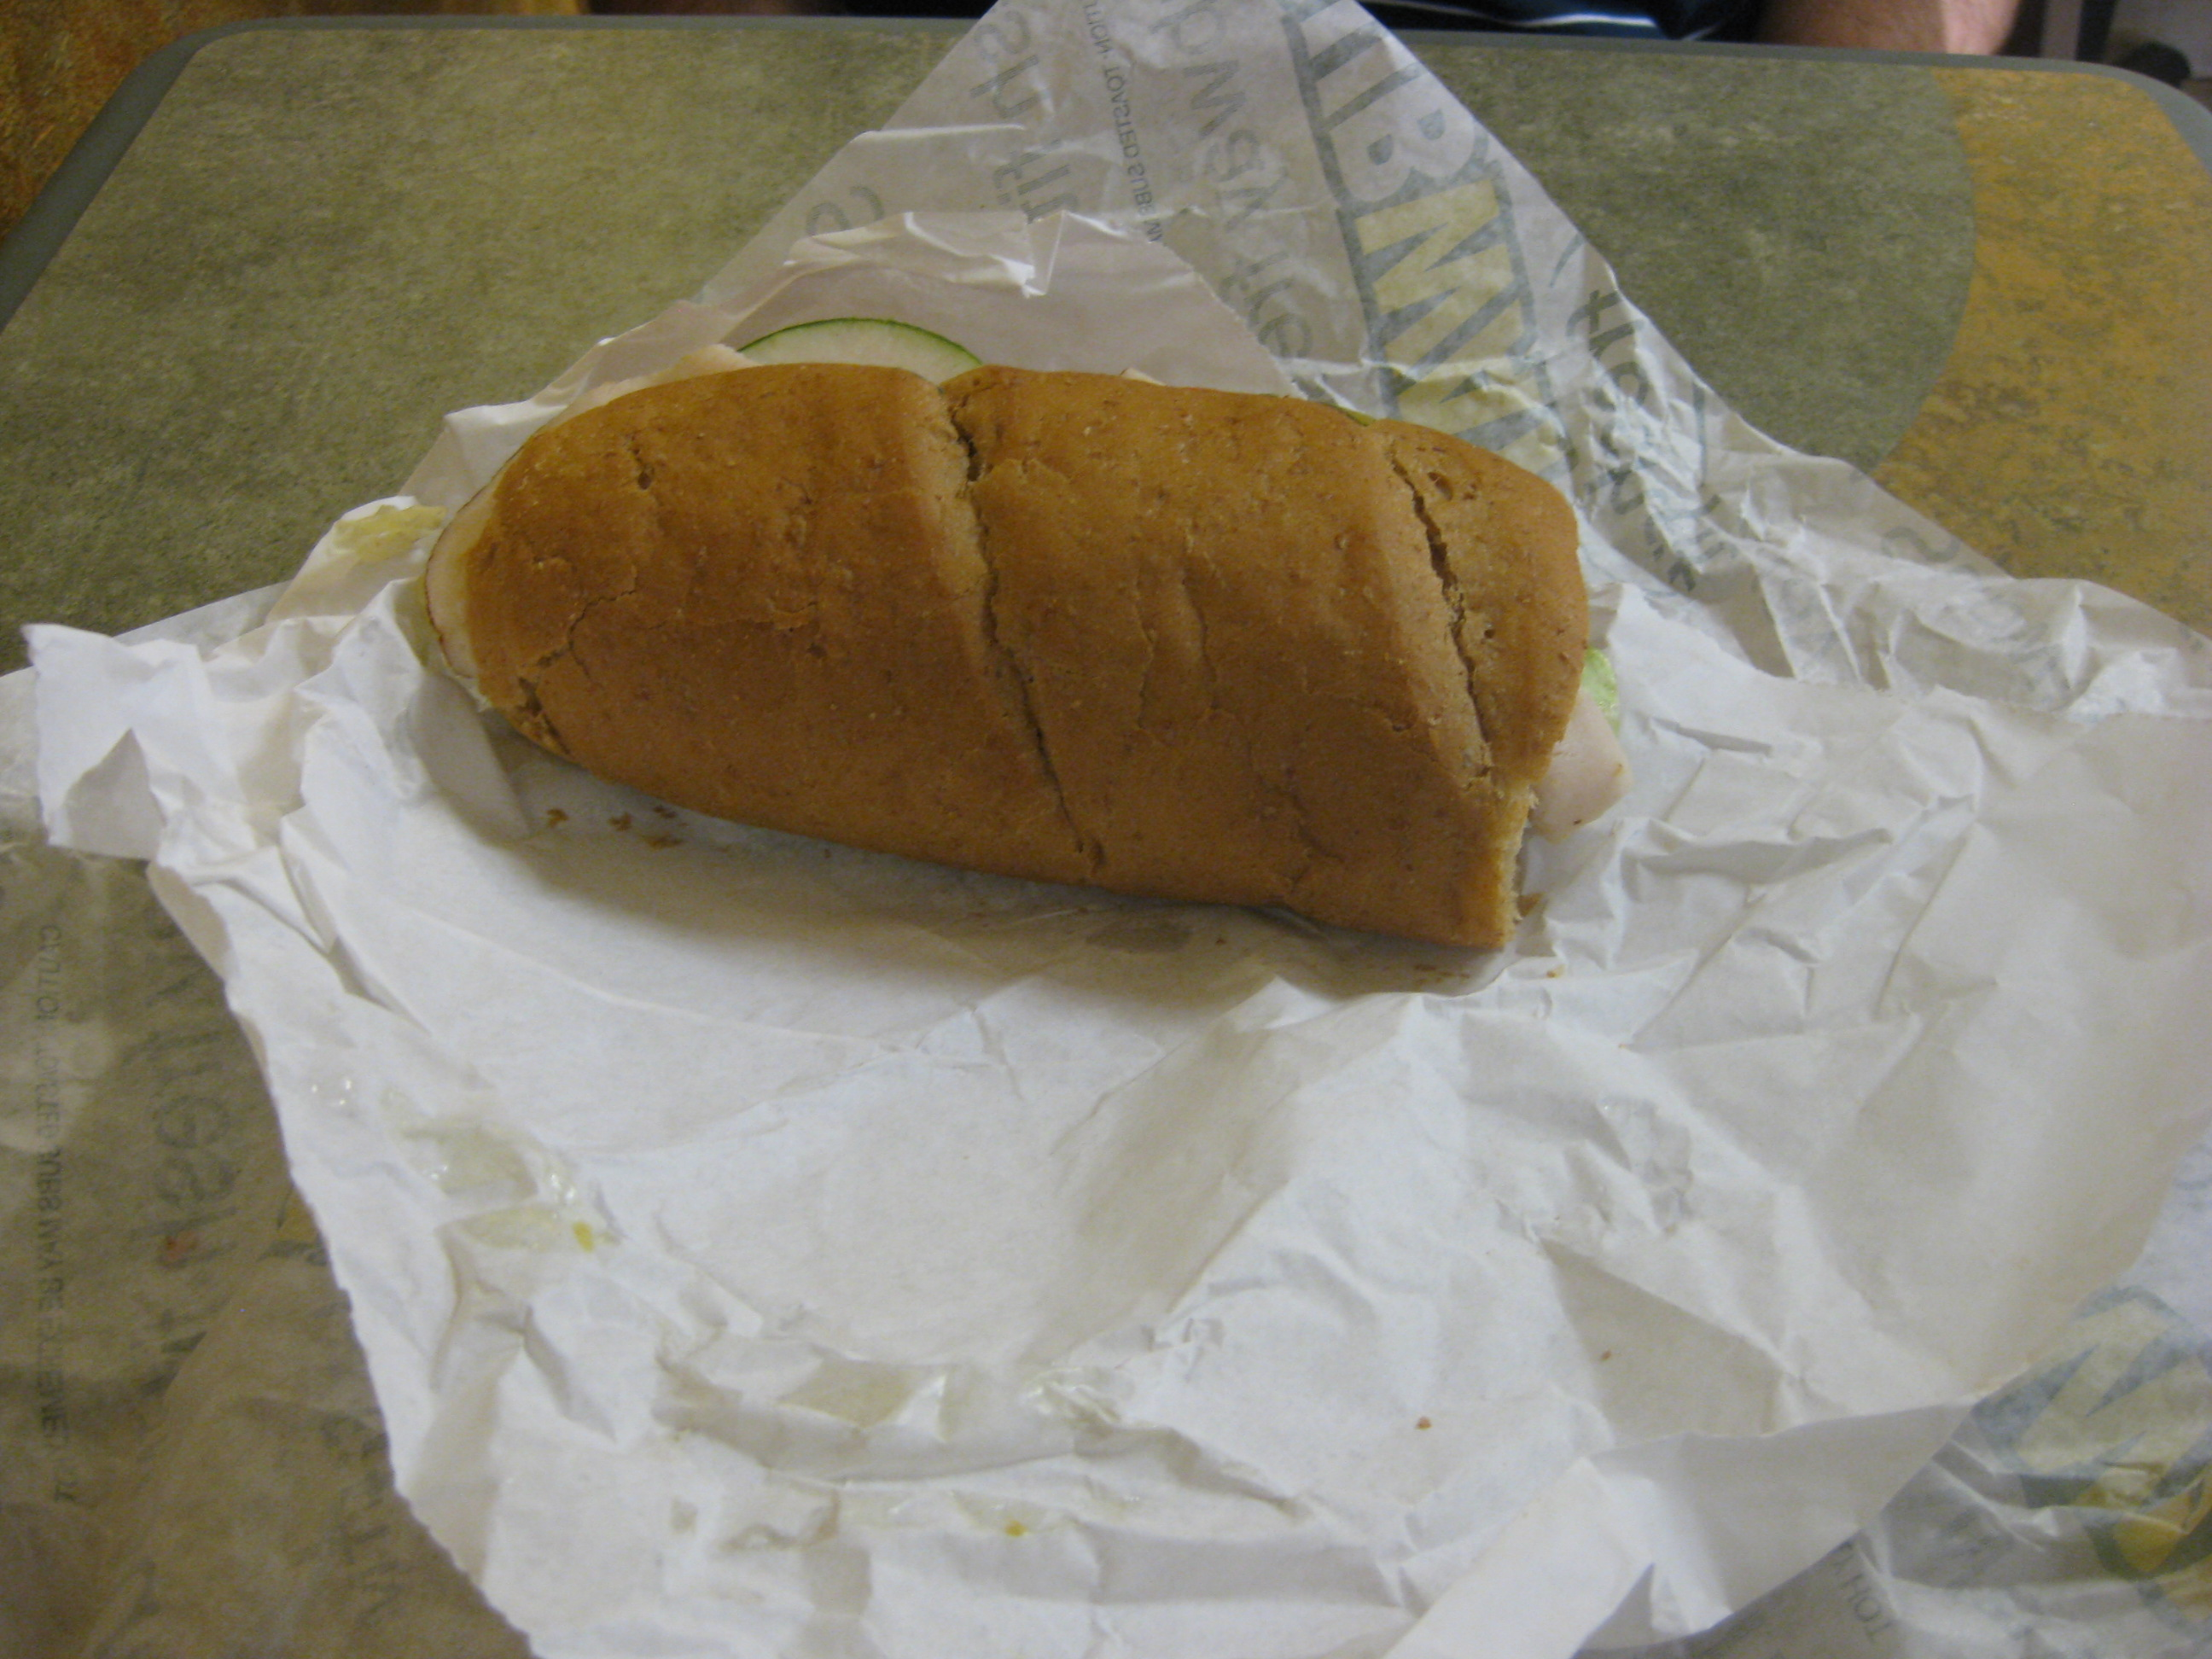sub: (385, 271, 1719, 990)
